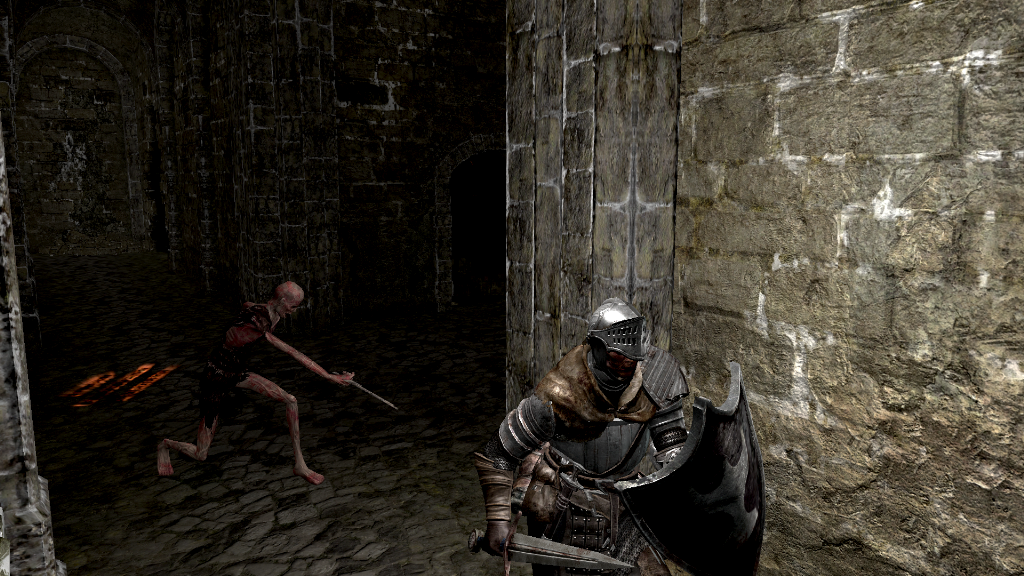hollow: (155, 280, 356, 485)
player: (463, 296, 768, 576)
